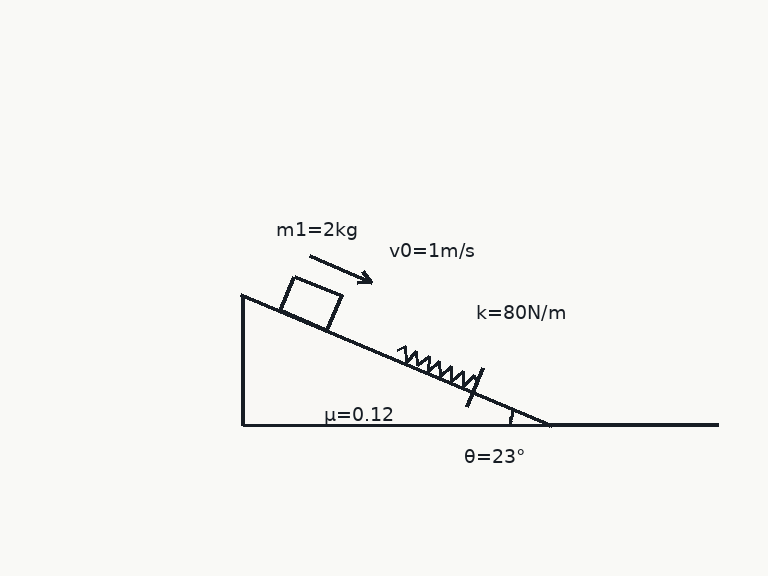block: (277, 274, 343, 332)
ramp: (241, 292, 552, 427)
spring: (395, 344, 479, 388)
